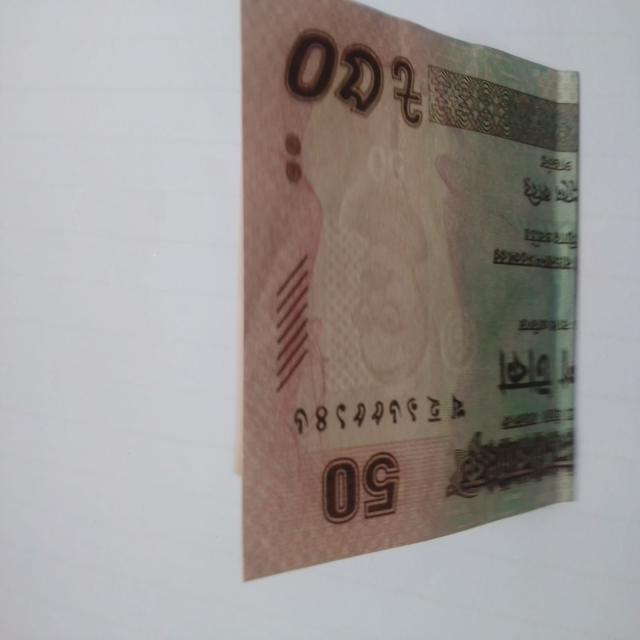Taka: (243, 4, 571, 562)
